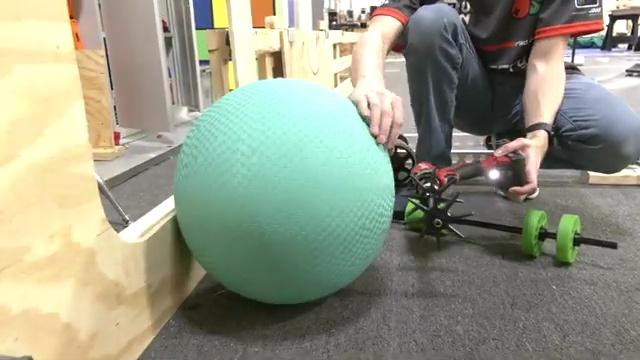ALGAE: (172, 76, 396, 305)
